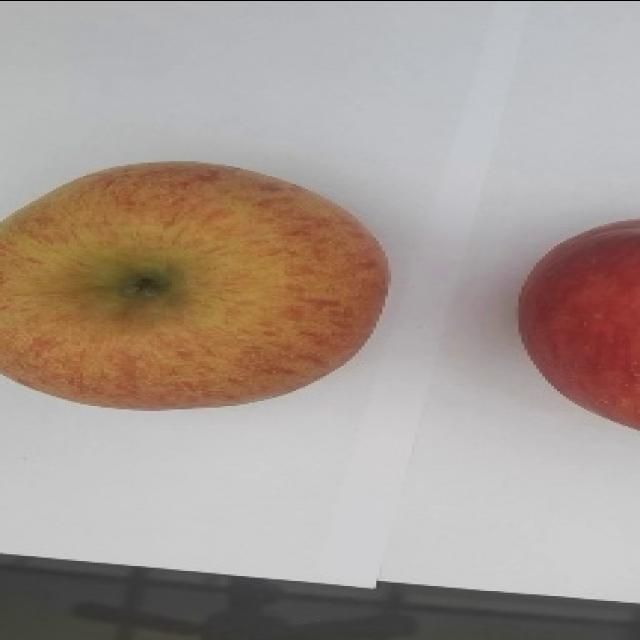Apple: (0, 164, 396, 419), (512, 215, 640, 438)
